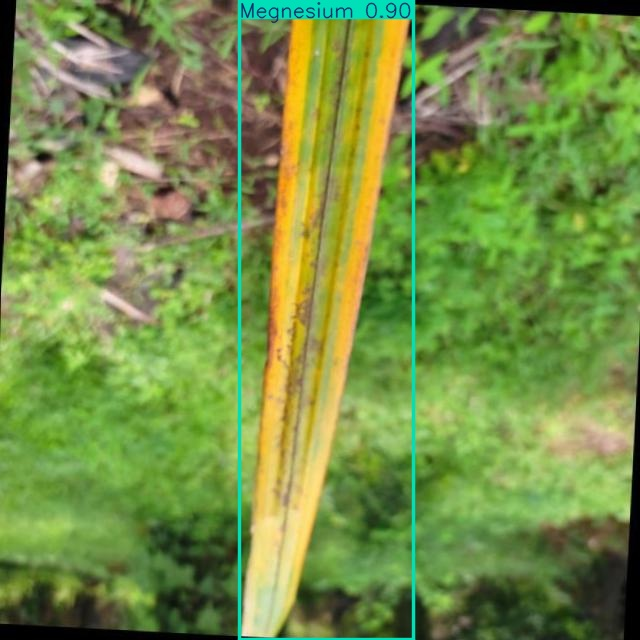Megnesium: (239, 1, 414, 639)
